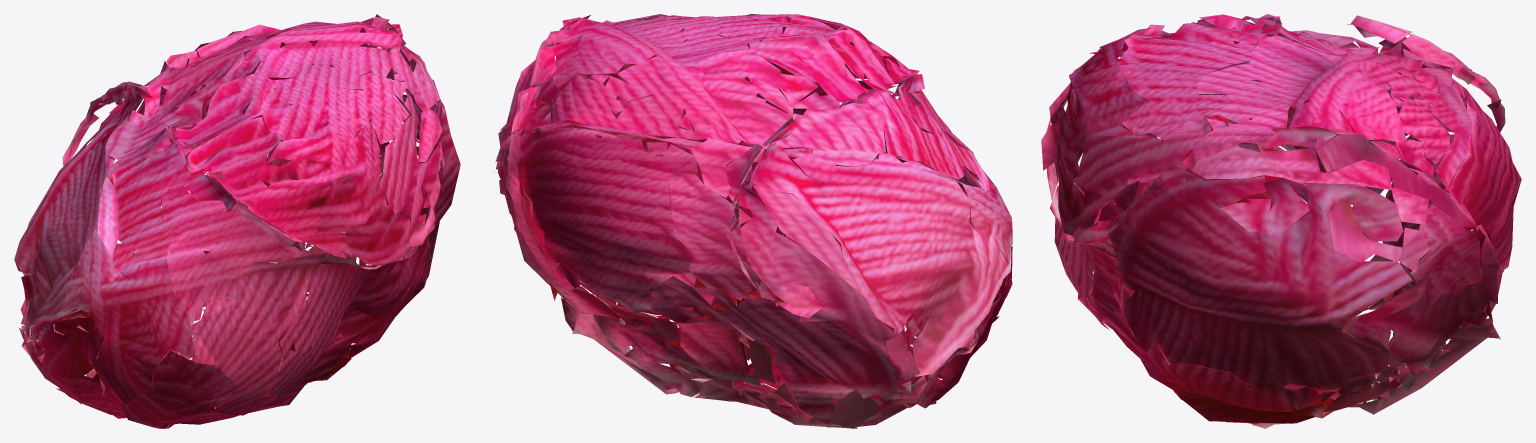
The model's file is yarn_ball.glb.
3 views of the same model, side by side, from view 1: azimuth 30°, elevation 25°; view 2: azimuth 150°, elevation 25°; view 3: azimuth 270°, elevation 25° (orthographic). The views are drawn at different scales.
Visible parts, largest first — view 1: Object_3, Object_4, Object_2; view 2: Object_3, Object_4, Object_2; view 3: Object_3, Object_4, Object_2.
Part boxes in pixels (left/top/right/bottom): Object_3: left=14, top=14, right=460, bottom=428; Object_4: left=18, top=44, right=446, bottom=404; Object_2: left=21, top=201, right=356, bottom=335; Object_3: left=496, top=14, right=1012, bottom=428; Object_4: left=495, top=46, right=1012, bottom=410; Object_2: left=571, top=285, right=919, bottom=428; Object_3: left=1041, top=14, right=1521, bottom=428; Object_4: left=1045, top=14, right=1493, bottom=404; Object_2: left=1322, top=163, right=1498, bottom=414.
Size of the model in its own units: 2.14 by 1.56 by 1.72.
3 materials, 3 textured.
